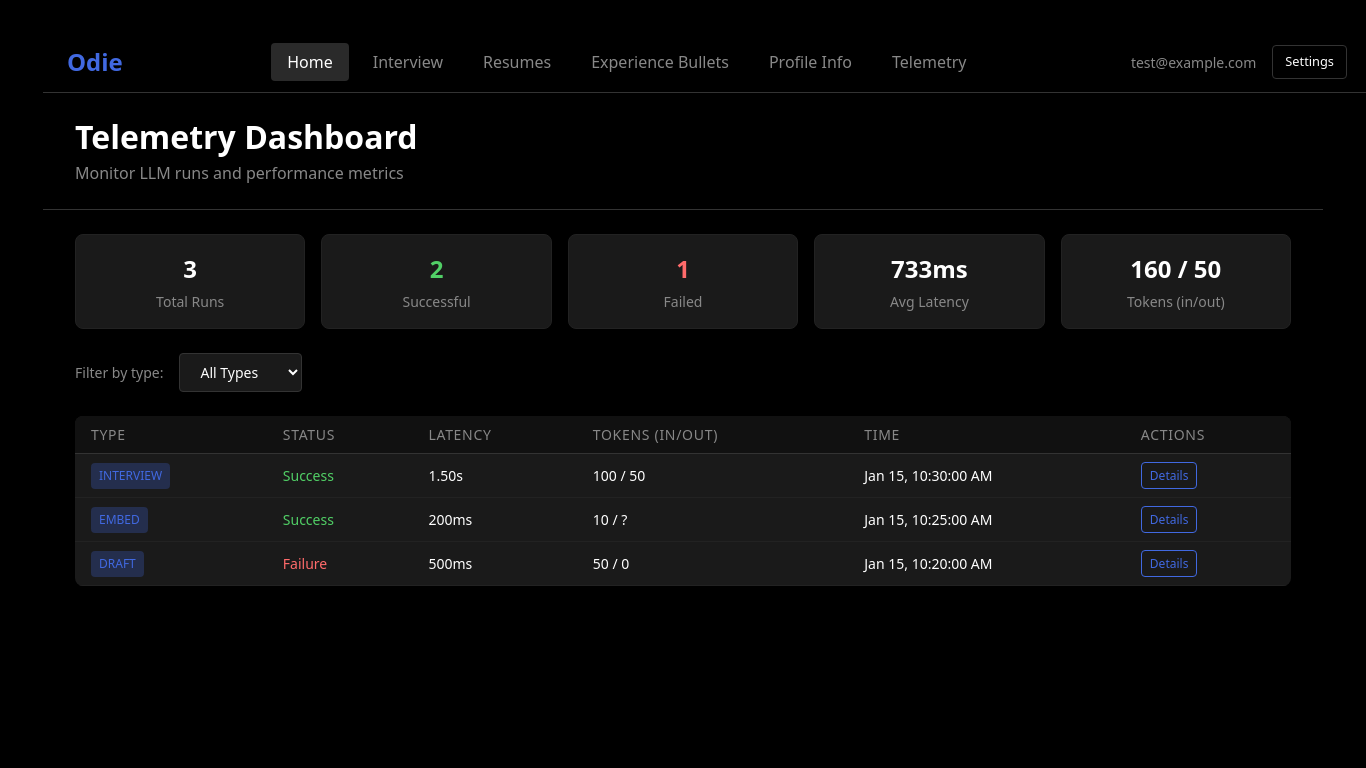
TelemetryPage › should expand run details when clicking details button
This screenshot has width=1366, height=768.
Click the button with test id "run-expand-run-1".
click(1169, 476)  # box x1=1141 y1=462 x2=1197 y2=489
(page scrolled)
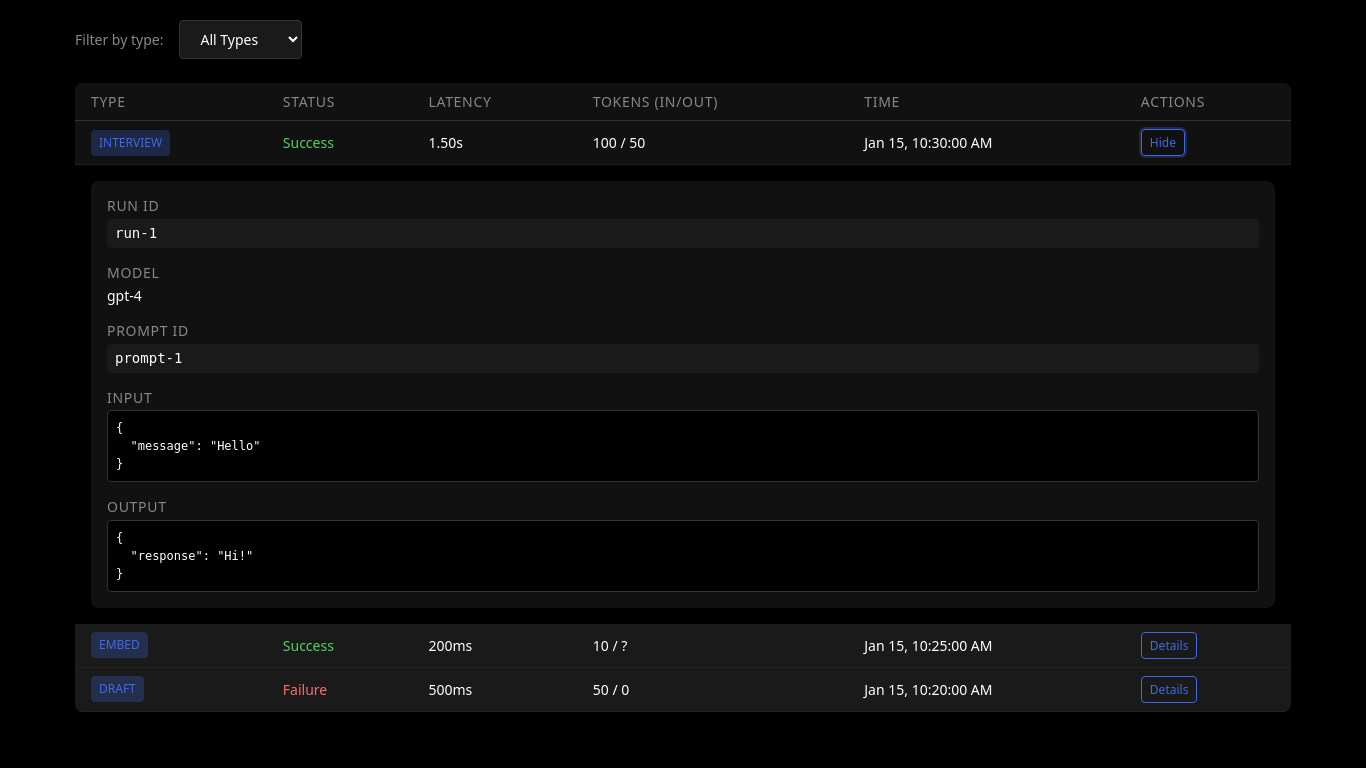
Now the row with test id "run-details-row-run-1" is shown, box x1=75 y1=164 x2=1291 y2=624
Now the element with test id "run-details" is shown, box x1=91 y1=181 x2=1275 y2=608
